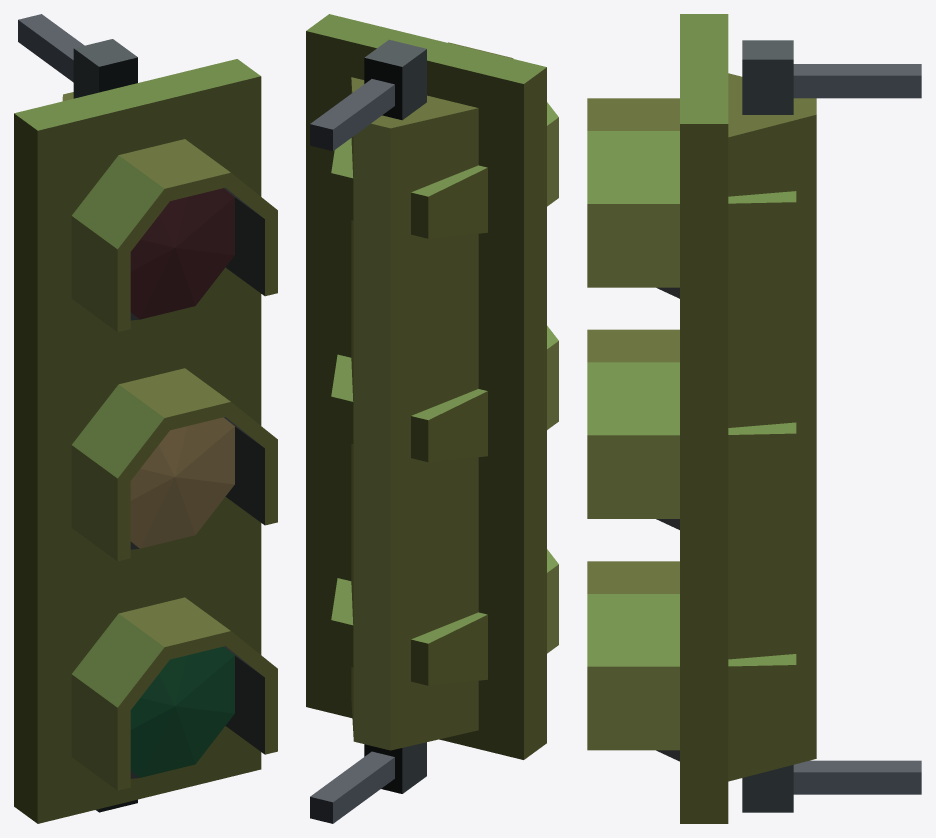
The model's file is TB_CITY_Prop_TrafficLight_A_Green.FBX.
3 renders of one model, left to right at view 1: azimuth 30°, elevation 25°; view 2: azimuth 150°, elevation 25°; view 3: azimuth 270°, elevation 25°, orthographic. The views are drawn at different scales.
Visible parts, largest first — view 1: TB_CITY_Prop_TrafficLight_A_Green; view 2: TB_CITY_Prop_TrafficLight_A_Green; view 3: TB_CITY_Prop_TrafficLight_A_Green.
Boxes of the visible parts, x1,y1,x2,y2 form: TB_CITY_Prop_TrafficLight_A_Green: [14, 14, 277, 823]; TB_CITY_Prop_TrafficLight_A_Green: [306, 14, 558, 823]; TB_CITY_Prop_TrafficLight_A_Green: [587, 14, 921, 823].
Bounding box in the file's own units: 1.03 × 3.27 × 1.32.
